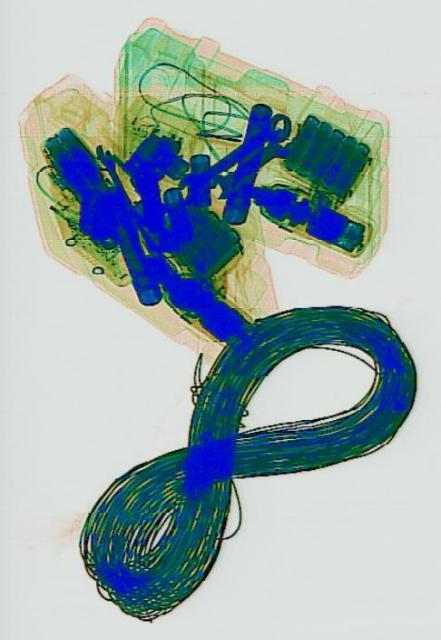Wrench: (174, 104, 293, 206), (91, 138, 160, 252), (208, 121, 295, 203)
